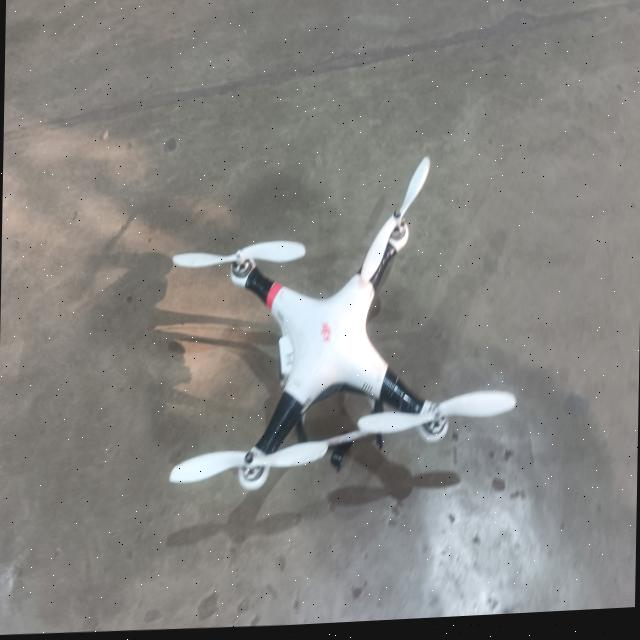drone: (120, 127, 547, 529)
